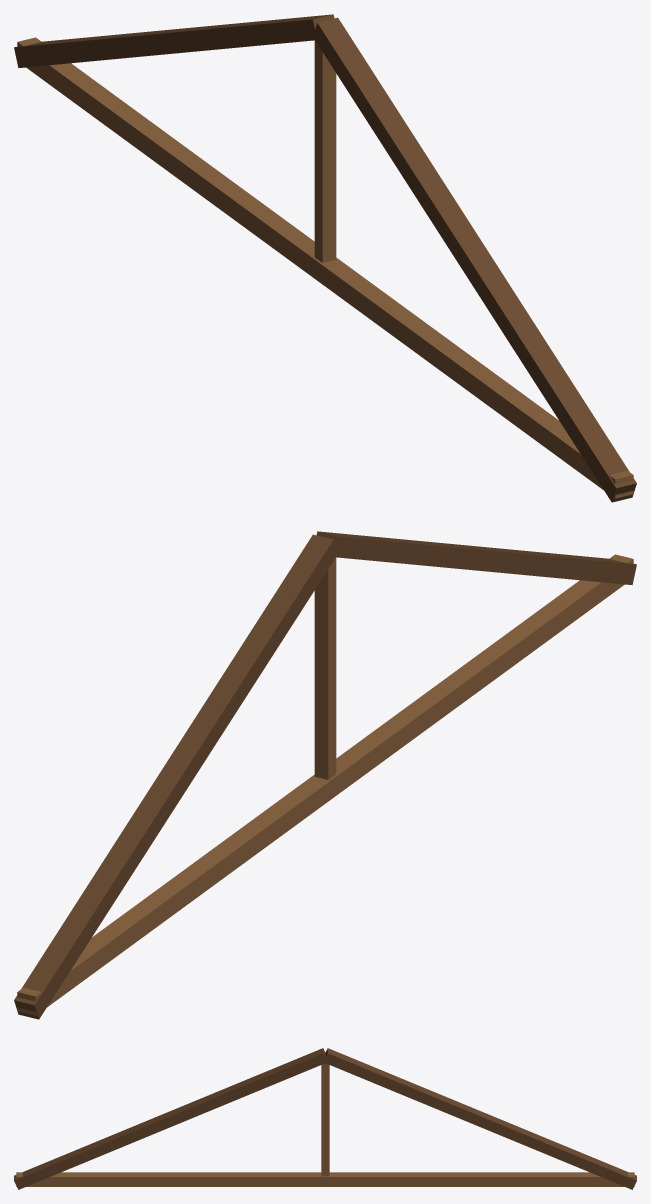
Rendered from SM_Bld_Roof_Truss_01.glb.
3 renders of one model, top to bottom at view 1: azimuth 30°, elevation 25°; view 2: azimuth 150°, elevation 25°; view 3: azimuth 270°, elevation 25°, orthographic. The views are drawn at different scales.
Parts seen in each view (by area): view 1: SM_Bld_Roof_Truss_01; view 2: SM_Bld_Roof_Truss_01; view 3: SM_Bld_Roof_Truss_01.
Part boxes in pixels (<box>): SM_Bld_Roof_Truss_01: <box>14,14,636,502</box>; SM_Bld_Roof_Truss_01: <box>14,531,636,1019</box>; SM_Bld_Roof_Truss_01: <box>14,1048,636,1189</box>.
Bounding box in the file's own units: 0.18 × 2.2 × 9.07.
1 material, 1 textured.
